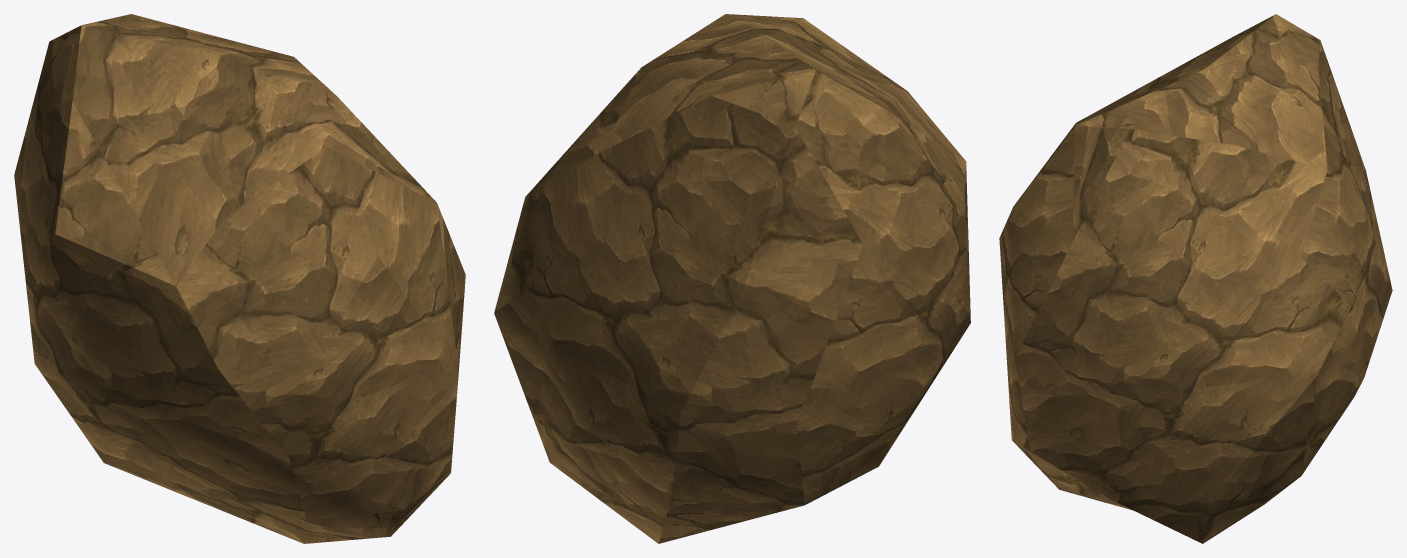
File: grock_b.glb
3 views of the same model, side by side, from view 1: azimuth 30°, elevation 25°; view 2: azimuth 150°, elevation 25°; view 3: azimuth 270°, elevation 25° (orthographic). The views are drawn at different scales.
Visible parts, largest first — view 1: model; view 2: model; view 3: model.
Boxes of the visible parts, box(x1,y1,x2,y2) form: model: box(14, 14, 465, 543); model: box(494, 14, 970, 543); model: box(999, 14, 1392, 543).
Bounding box in the file's own units: 0.8198 × 1.03 × 0.8322.
Materials: 1 (1 with a texture image).
